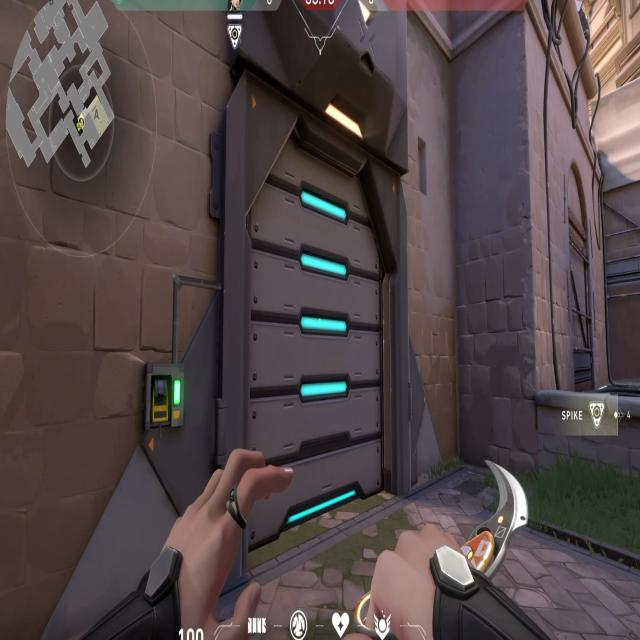A_Door: (228, 45, 419, 547)
